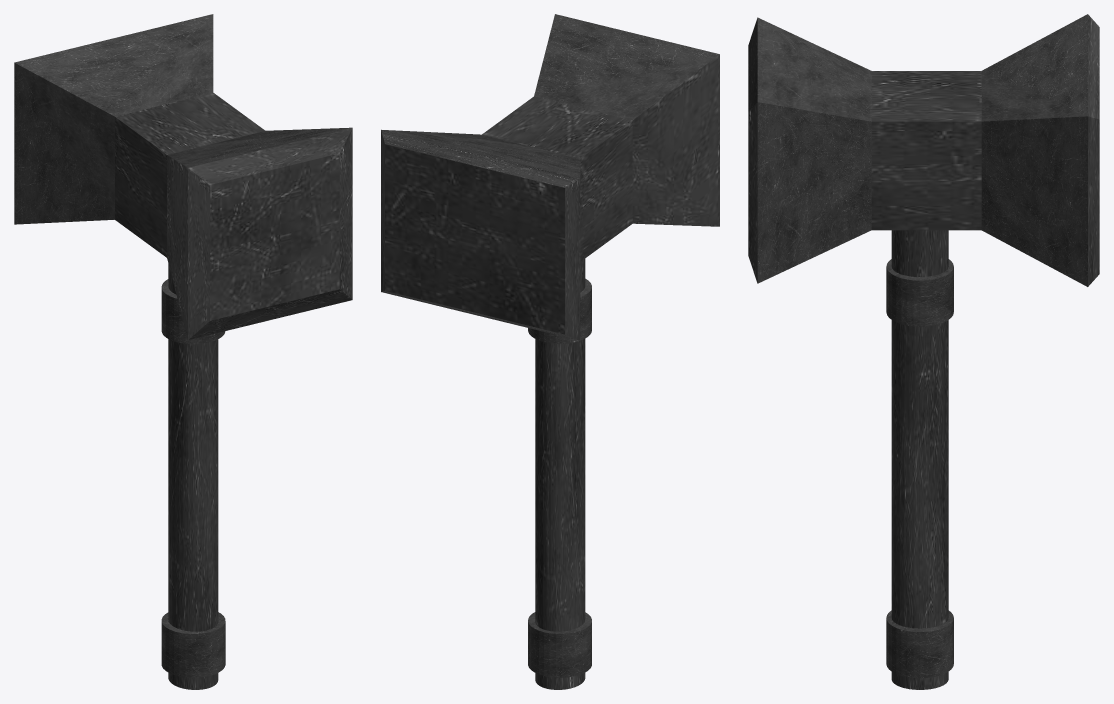
The model's file is Iron Warhammer.fbx.
The picture shows the model from 3 angles, left to right: view 1: azimuth 30°, elevation 25°; view 2: azimuth 150°, elevation 25°; view 3: azimuth 270°, elevation 25°; orthographic projection. The views are drawn at different scales.
Parts seen in each view (by area): view 1: Cylinder; view 2: Cylinder; view 3: Cylinder.
Boxes of the visible parts, <box> form: Cylinder: <box>14,14,352,689</box>; Cylinder: <box>381,14,719,689</box>; Cylinder: <box>748,14,1099,689</box>.
Bounding box in the file's own units: 119 × 335 × 172.
